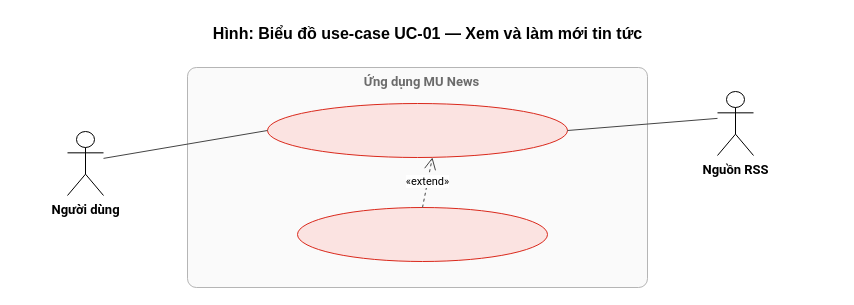
Image size: 854x305. Some labels were removed from this diagram. Here are the shapes that lost their labels. From the top down, the centre of each, then its label:
At (x=417, y=130): "UC-01 Xem và làm mới tin tức".
At (x=422, y=234): "UC-02 Lọc tin chuyển nhượng".
